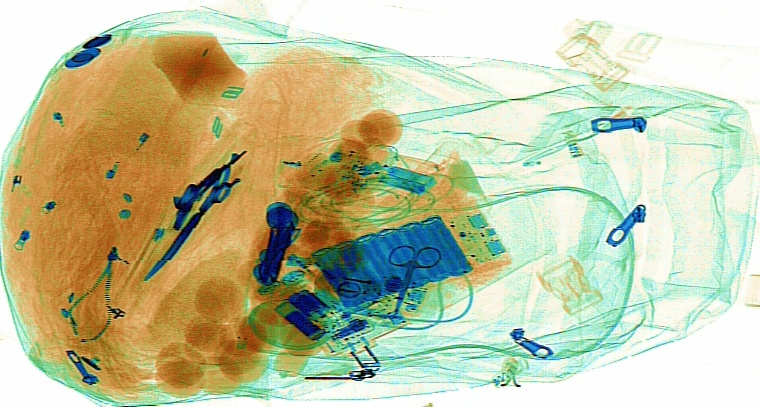powerbank: (306, 201, 512, 313)
scissors: (138, 164, 241, 281), (384, 243, 443, 316)
